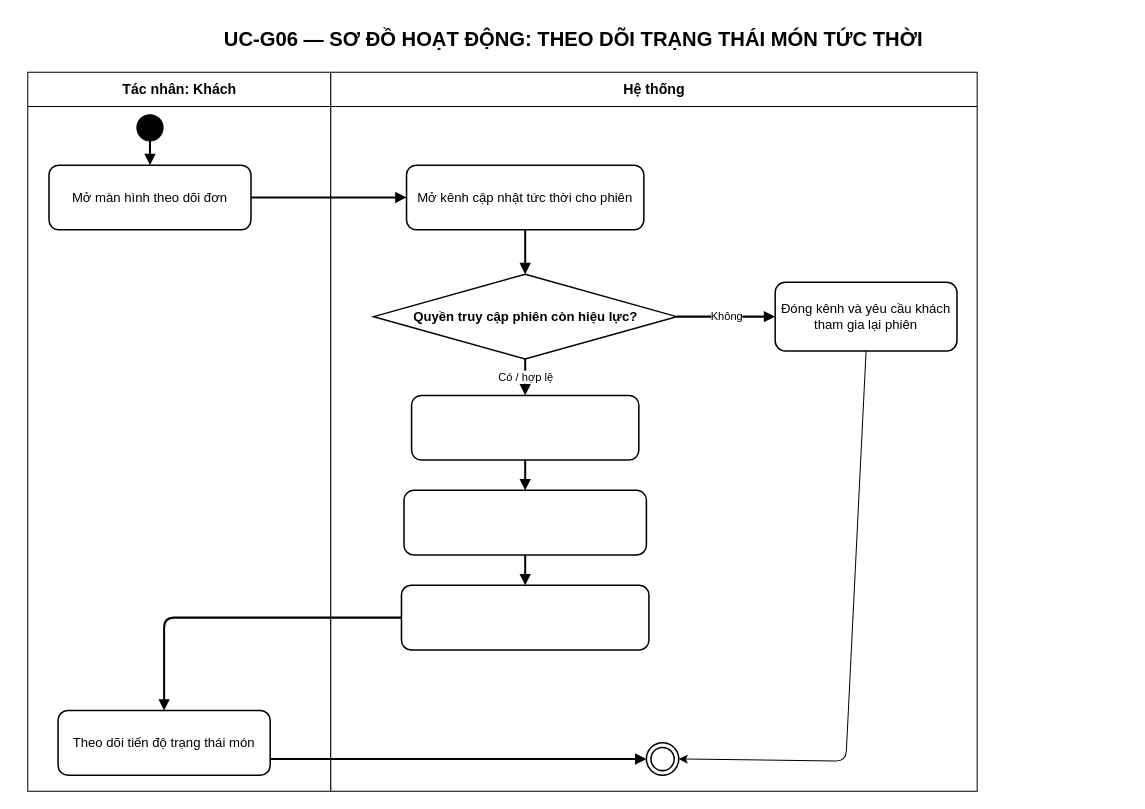
The diagram is 1145 pixels wide and 809 high, and some of its shapes have lost their labels. The shapes that lost their labels are listed below. From the top down, each one's box as (x1, y1, x2, y2) in pixels, then its label:
(410, 394, 639, 460): Đăng ký nhận tin của đúng bàn và đúng phiên
(403, 489, 647, 555): Nhận tin món và đơn của riêng phiên này
(400, 584, 649, 650): Cập nhật trạng thái món từ chờ bếp đến đã phục vụ
